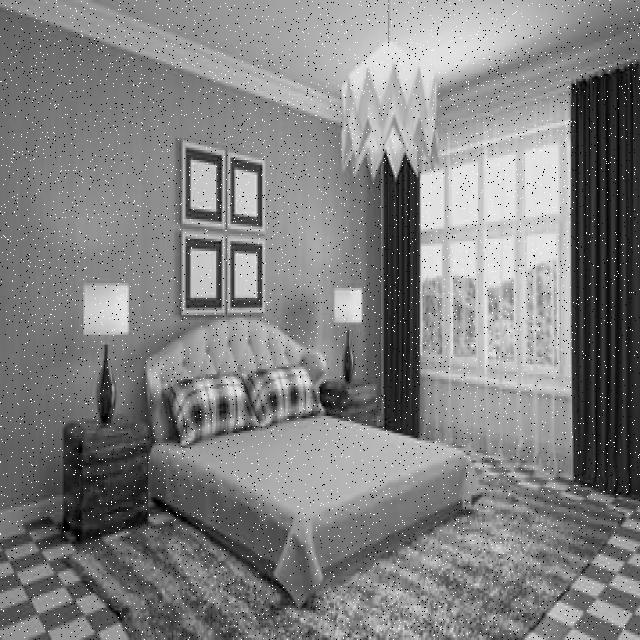bed: (156, 352, 478, 568)
